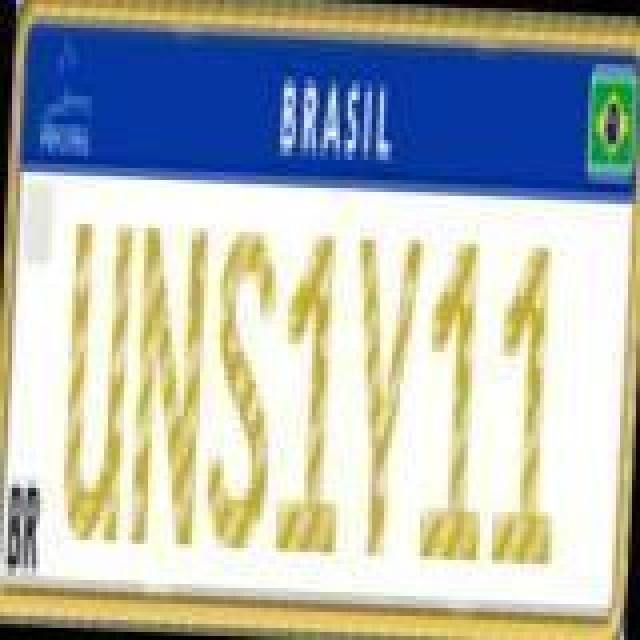1: (414, 228, 498, 564), (270, 226, 354, 558), (488, 238, 568, 570)
N: (124, 214, 212, 554)
S: (200, 218, 280, 550)
U: (56, 214, 136, 546)
Y: (342, 224, 426, 560)
